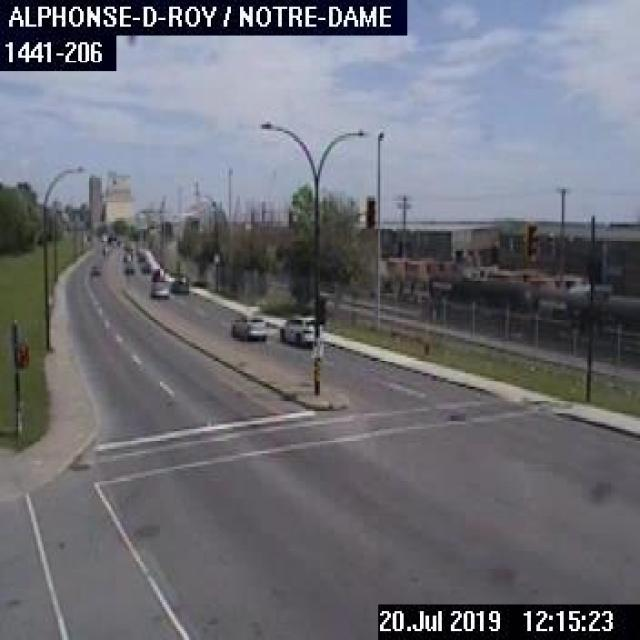vehicle: (276, 313, 314, 347), (229, 309, 267, 338), (146, 276, 170, 300), (169, 274, 187, 298), (150, 265, 169, 280), (85, 260, 100, 276), (121, 261, 134, 275)
